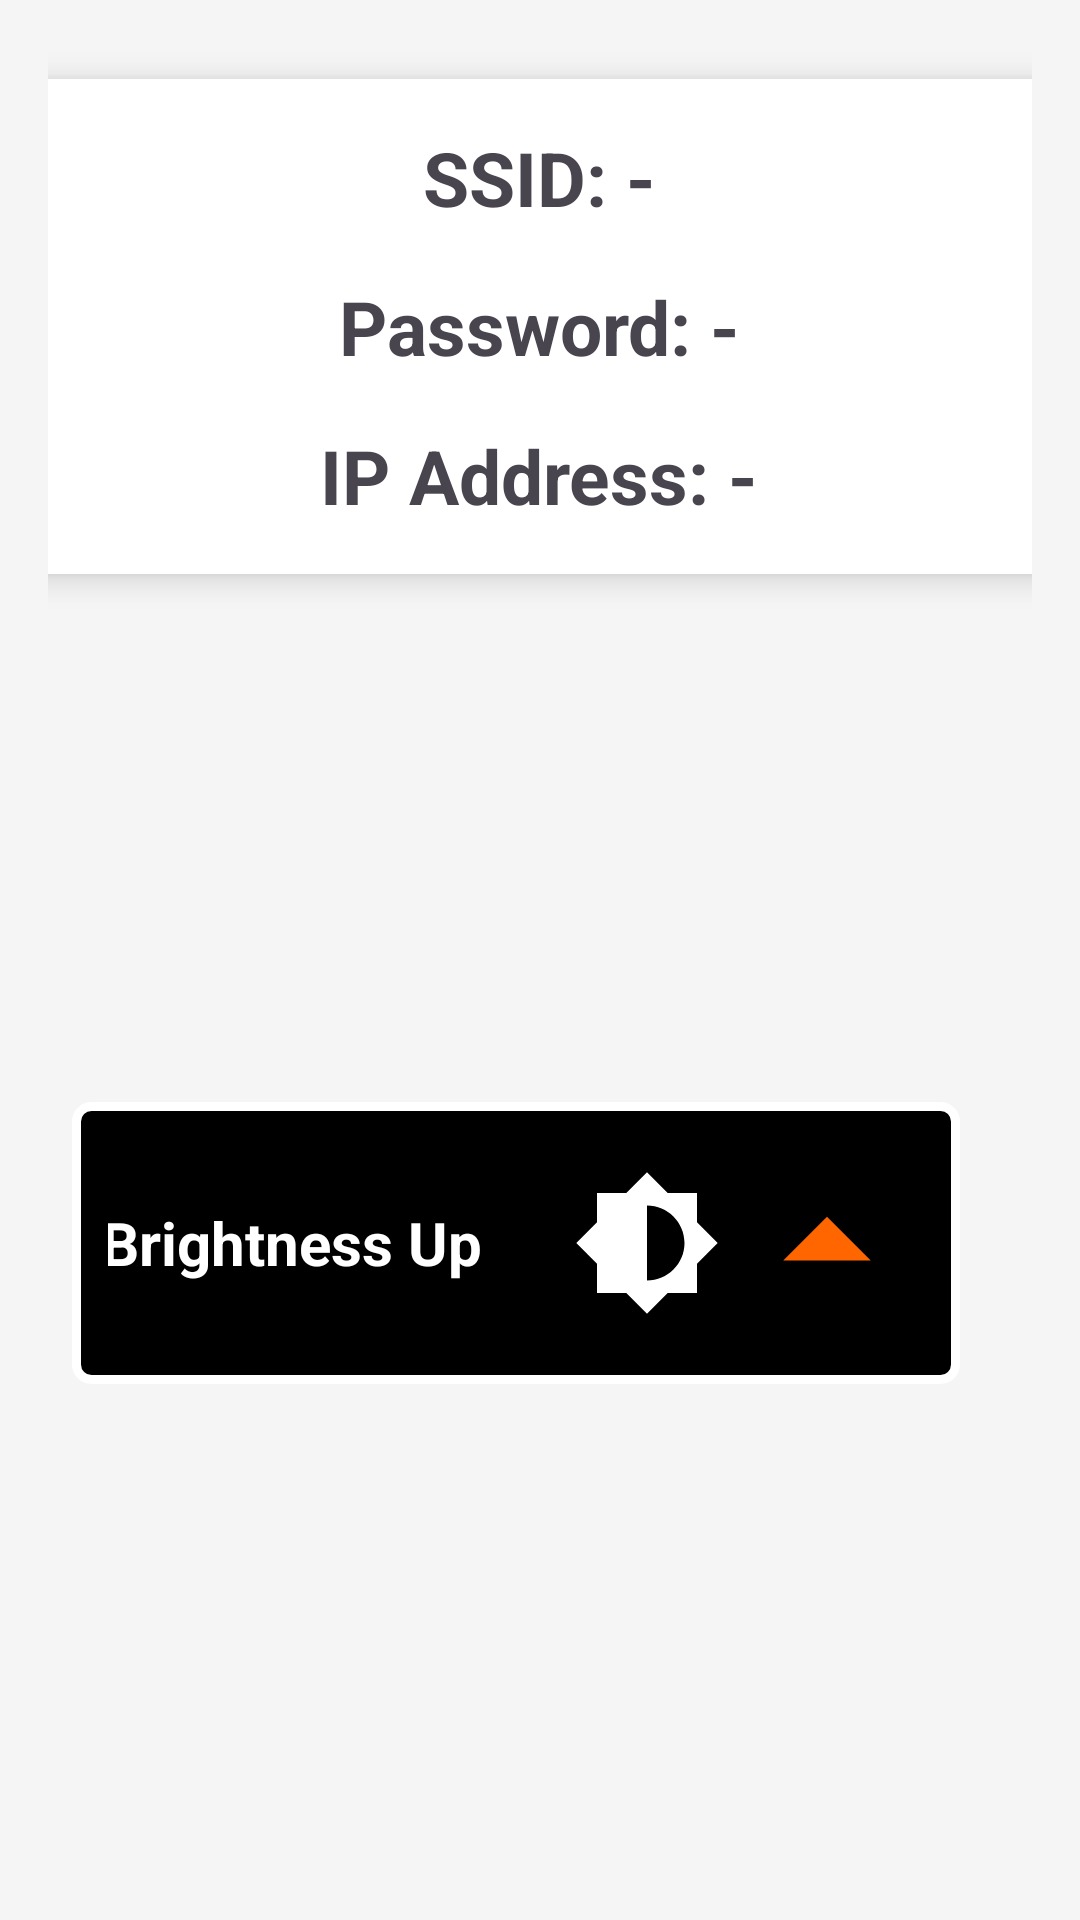

Named icons in this screenshot (1080px×1920px) and their bounding boxes, box=[x1, y1, x2, y2]:
arrow drop up: box=[783, 1217, 871, 1261]
brightness medium: box=[576, 1172, 718, 1314]
